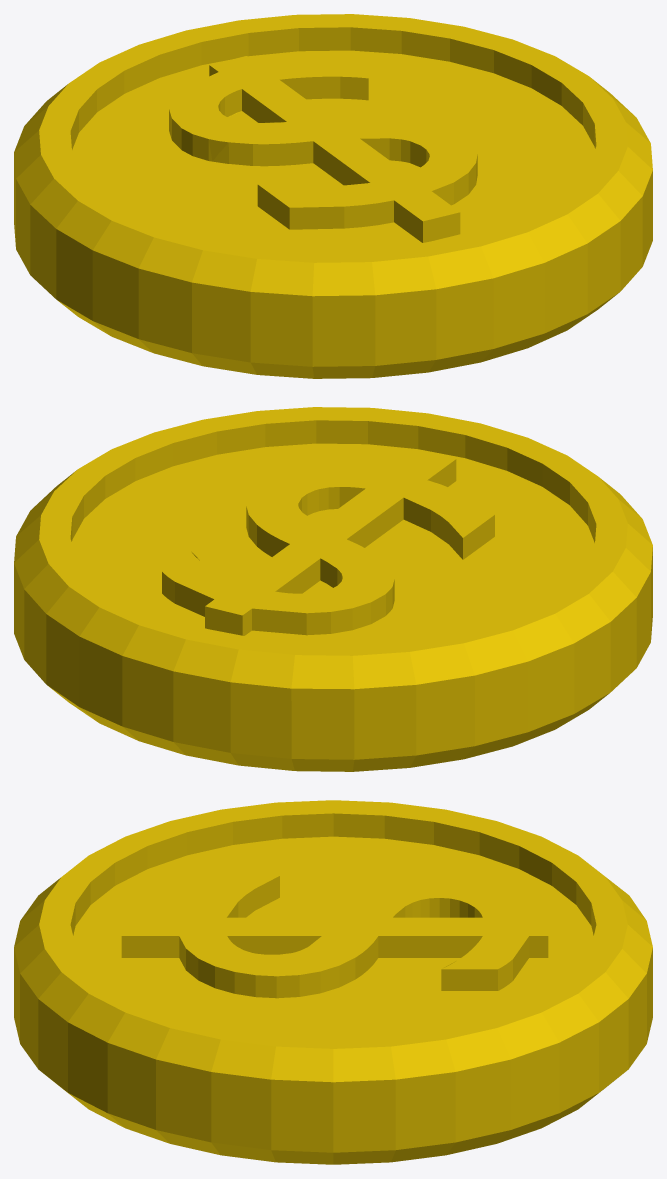
File: COİN_NEW.glb
The picture shows the model from 3 angles, top to bottom: view 1: azimuth 30°, elevation 25°; view 2: azimuth 150°, elevation 25°; view 3: azimuth 270°, elevation 25°; orthographic projection.
Parts seen in each view (by area): view 1: COİN_NEW; view 2: COİN_NEW; view 3: COİN_NEW.
Part boxes in pixels (box(x1,y1,x2,y2)): COİN_NEW: box(14, 14, 652, 378); COİN_NEW: box(14, 407, 652, 771); COİN_NEW: box(14, 800, 652, 1164).
Bounding box in the file's own units: 2 × 0.4 × 2.
